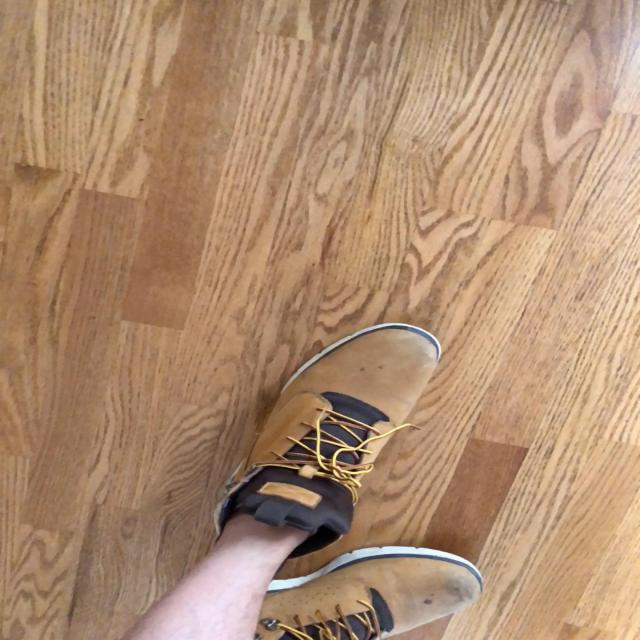shoe: (204, 323, 442, 581), (257, 547, 481, 640)
